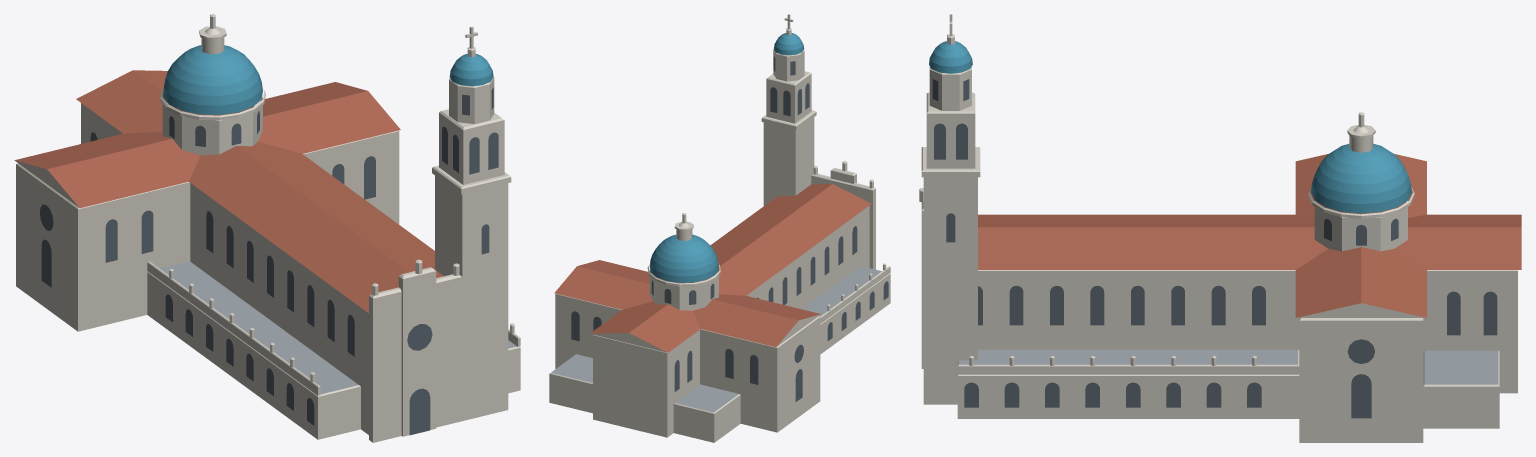
Rendered from sd-immaculata.glb.
3 renders of one model, left to right at view 1: azimuth 30°, elevation 25°; view 2: azimuth 150°, elevation 25°; view 3: azimuth 270°, elevation 25°, orthographic. The views are drawn at different scales.
Visible parts, largest first — view 1: The Immaculata; view 2: The Immaculata; view 3: The Immaculata.
Part boxes in pixels (<box>): The Immaculata: <box>14,14,520,442</box>; The Immaculata: <box>549,14,890,442</box>; The Immaculata: <box>919,14,1521,442</box>.
Bounding box in the file's own units: 40.52 × 45.5 × 65.59.
